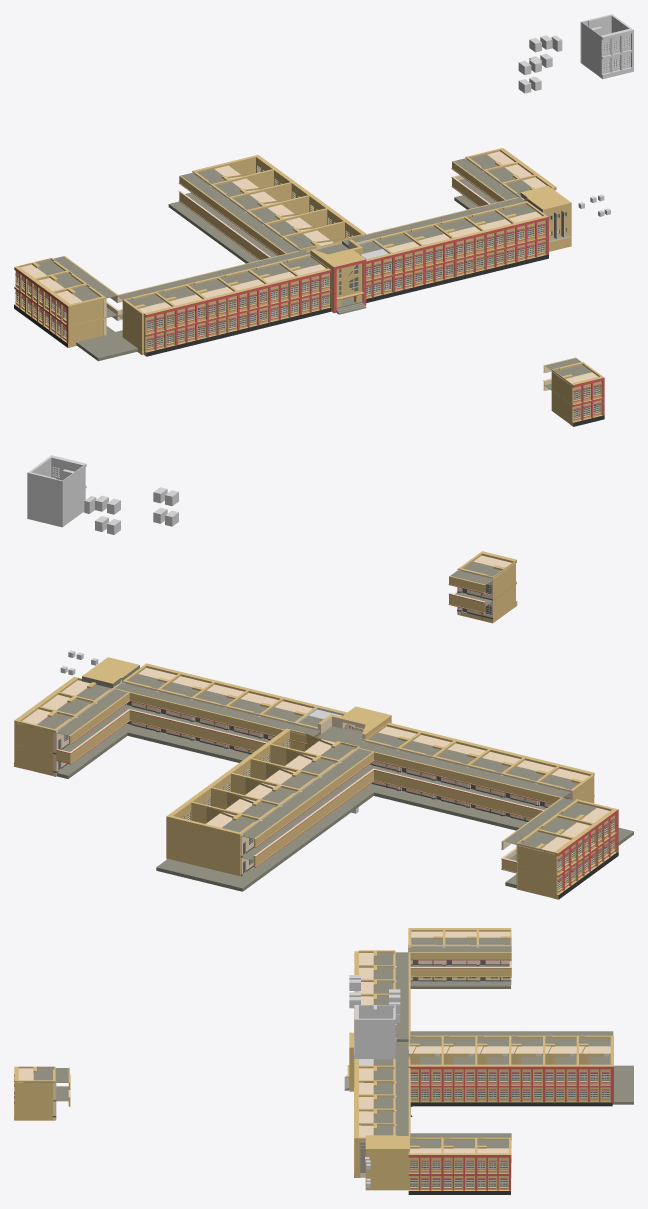
The model's file is new train.fbx.
The picture shows the model from 3 angles, top to bottom: view 1: azimuth 30°, elevation 25°; view 2: azimuth 150°, elevation 25°; view 3: azimuth 270°, elevation 25°; orthographic projection. The views are drawn at different scales.
Parts seen in each view (by area): view 1: Front Row Of Classes, Left Row Of Classes, Middel Row Of Classes.001, Middel Row Of Classes, DownMost Floor, Right Row Of Classes, Main Entrance Wall, Test Class.017, zzz Utpal Class Room, Cut Window Hole.001, Cut Window Hole; view 2: Front Row Of Classes, Middel Row Of Classes.001, DownMost Floor, Left Row Of Classes, Right Row Of Classes, Middel Row Of Classes, Test Class.017, zzz Utpal Class Room, Main Entrance Wall, Cut Window Hole.001, Cut Window Hole, Second Floor Plain.001; view 3: Middel Row Of Classes.001, Middel Row Of Classes, Front Row Of Classes, Right Row Of Classes, Left Row Of Classes, DownMost Floor, Test Class.017, zzz Utpal Class Room, Main Entrance Wall.
Part boxes in pixels (bbox=[...]): Front Row Of Classes: bbox=[117, 197, 548, 356]; Left Row Of Classes: bbox=[14, 256, 118, 347]; Middel Row Of Classes.001: bbox=[178, 155, 312, 240]; Middel Row Of Classes: bbox=[232, 194, 365, 260]; DownMost Floor: bbox=[76, 185, 571, 361]; Right Row Of Classes: bbox=[451, 148, 556, 206]; Main Entrance Wall: bbox=[310, 235, 394, 313]; Test Class.017: bbox=[543, 357, 604, 426]; zzz Utpal Class Room: bbox=[580, 14, 633, 78]; Cut Window Hole.001: bbox=[529, 35, 562, 68]; Cut Window Hole: bbox=[518, 58, 541, 93]; Front Row Of Classes: bbox=[115, 663, 594, 821]; Middel Row Of Classes.001: bbox=[166, 772, 315, 876]; DownMost Floor: bbox=[57, 657, 633, 891]; Left Row Of Classes: bbox=[501, 798, 618, 899]; Right Row Of Classes: bbox=[14, 676, 130, 776]; Middel Row Of Classes: bbox=[227, 728, 374, 823]; Test Class.017: bbox=[448, 551, 517, 623]; zzz Utpal Class Room: bbox=[27, 455, 86, 527]; Main Entrance Wall: bbox=[289, 705, 391, 744]; Cut Window Hole.001: bbox=[84, 495, 120, 534]; Cut Window Hole: bbox=[153, 487, 178, 526]; Second Floor Plain.001: bbox=[314, 726, 362, 745]; Middel Row Of Classes.001: bbox=[510, 1031, 613, 1106]; Middel Row Of Classes: bbox=[408, 1031, 511, 1106]; Front Row Of Classes: bbox=[354, 950, 410, 1177]; Right Row Of Classes: bbox=[408, 1133, 511, 1194]; Left Row Of Classes: bbox=[408, 928, 511, 984]; DownMost Floor: bbox=[365, 981, 633, 1190]; Test Class.017: bbox=[14, 1066, 70, 1120]; zzz Utpal Class Room: bbox=[354, 1005, 395, 1058]; Main Entrance Wall: bbox=[347, 1032, 410, 1101].
Bounding box in the file's own units: 26603 × 10701 × 27897.
